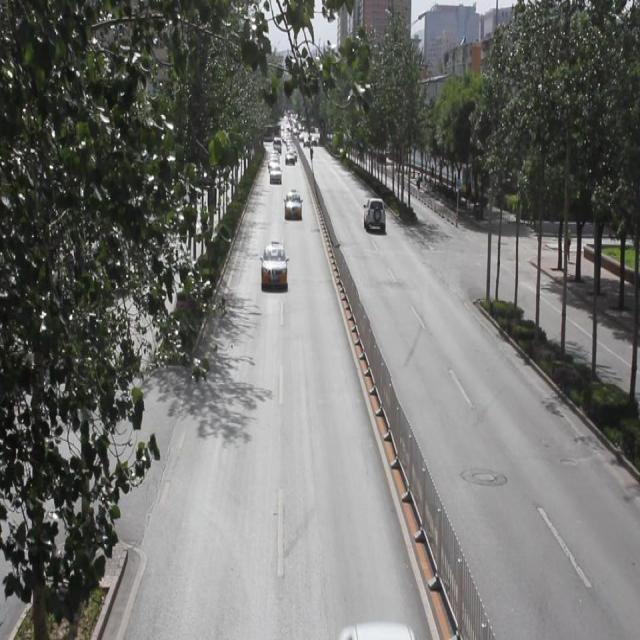car: (260, 242, 287, 287), (363, 196, 383, 231), (284, 190, 302, 219)
